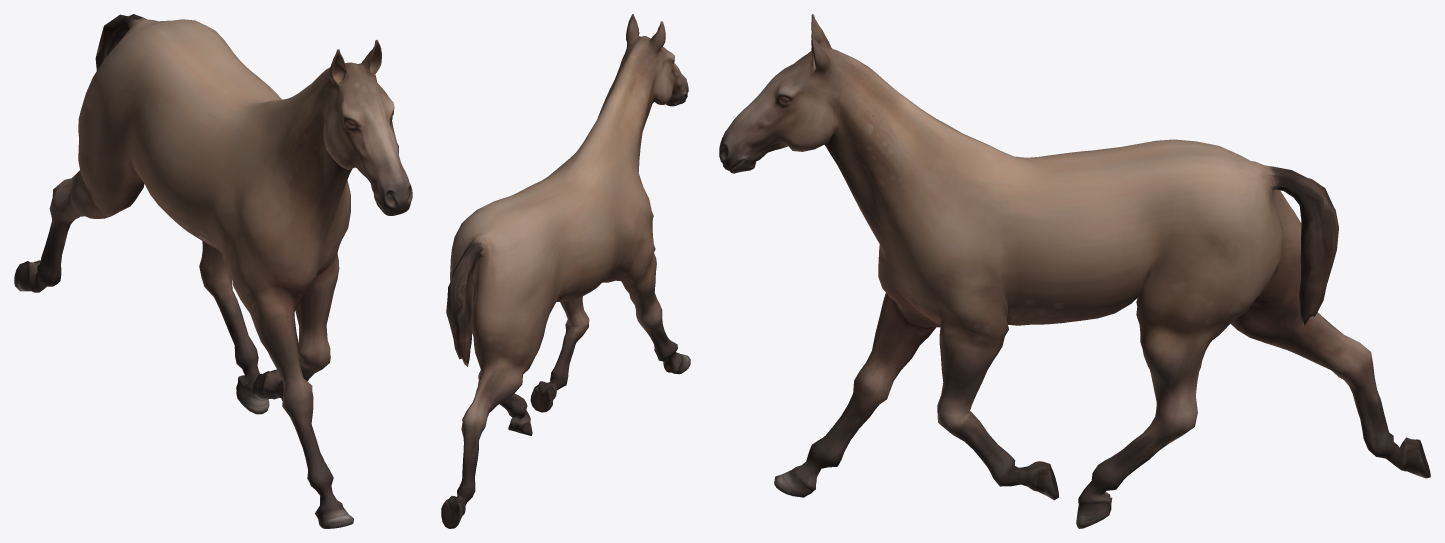
File: horse_trot.glb
The picture shows the model from 3 angles, left to right: view 1: azimuth 30°, elevation 25°; view 2: azimuth 150°, elevation 25°; view 3: azimuth 270°, elevation 25°; orthographic projection. The views are drawn at different scales.
Visible parts, largest first — view 1: Horse1Shape; view 2: Horse1Shape; view 3: Horse1Shape.
Part boxes in pixels (left/top/right/bottom): Horse1Shape: left=14, top=14, right=412, bottom=528; Horse1Shape: left=441, top=14, right=690, bottom=528; Horse1Shape: left=719, top=14, right=1430, bottom=528.
Size of what is drawn, in the model's own units: 6.42 by 20.51 by 27.2.
1 material, 1 textured.
